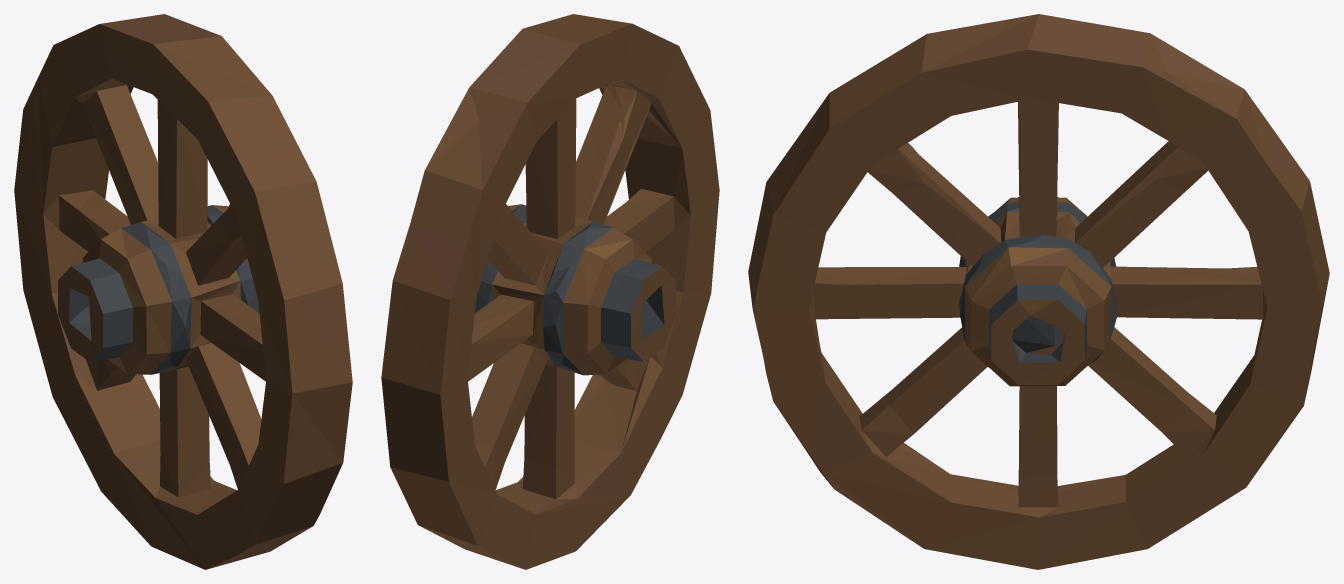
The model's file is mdvl_props_cart_wheel_01.fbx.
3 views of the same model, side by side, from view 1: azimuth 30°, elevation 25°; view 2: azimuth 150°, elevation 25°; view 3: azimuth 270°, elevation 25° (orthographic). The views are drawn at different scales.
Parts seen in each view (by area): view 1: mdvl_props_cart_wheel_01; view 2: mdvl_props_cart_wheel_01; view 3: mdvl_props_cart_wheel_01.
Part boxes in pixels (<box>): mdvl_props_cart_wheel_01: <box>14,14,352,569</box>; mdvl_props_cart_wheel_01: <box>381,14,719,569</box>; mdvl_props_cart_wheel_01: <box>748,14,1329,569</box>.
Bounding box in the file's own units: 35.19 × 84.02 × 84.07.
